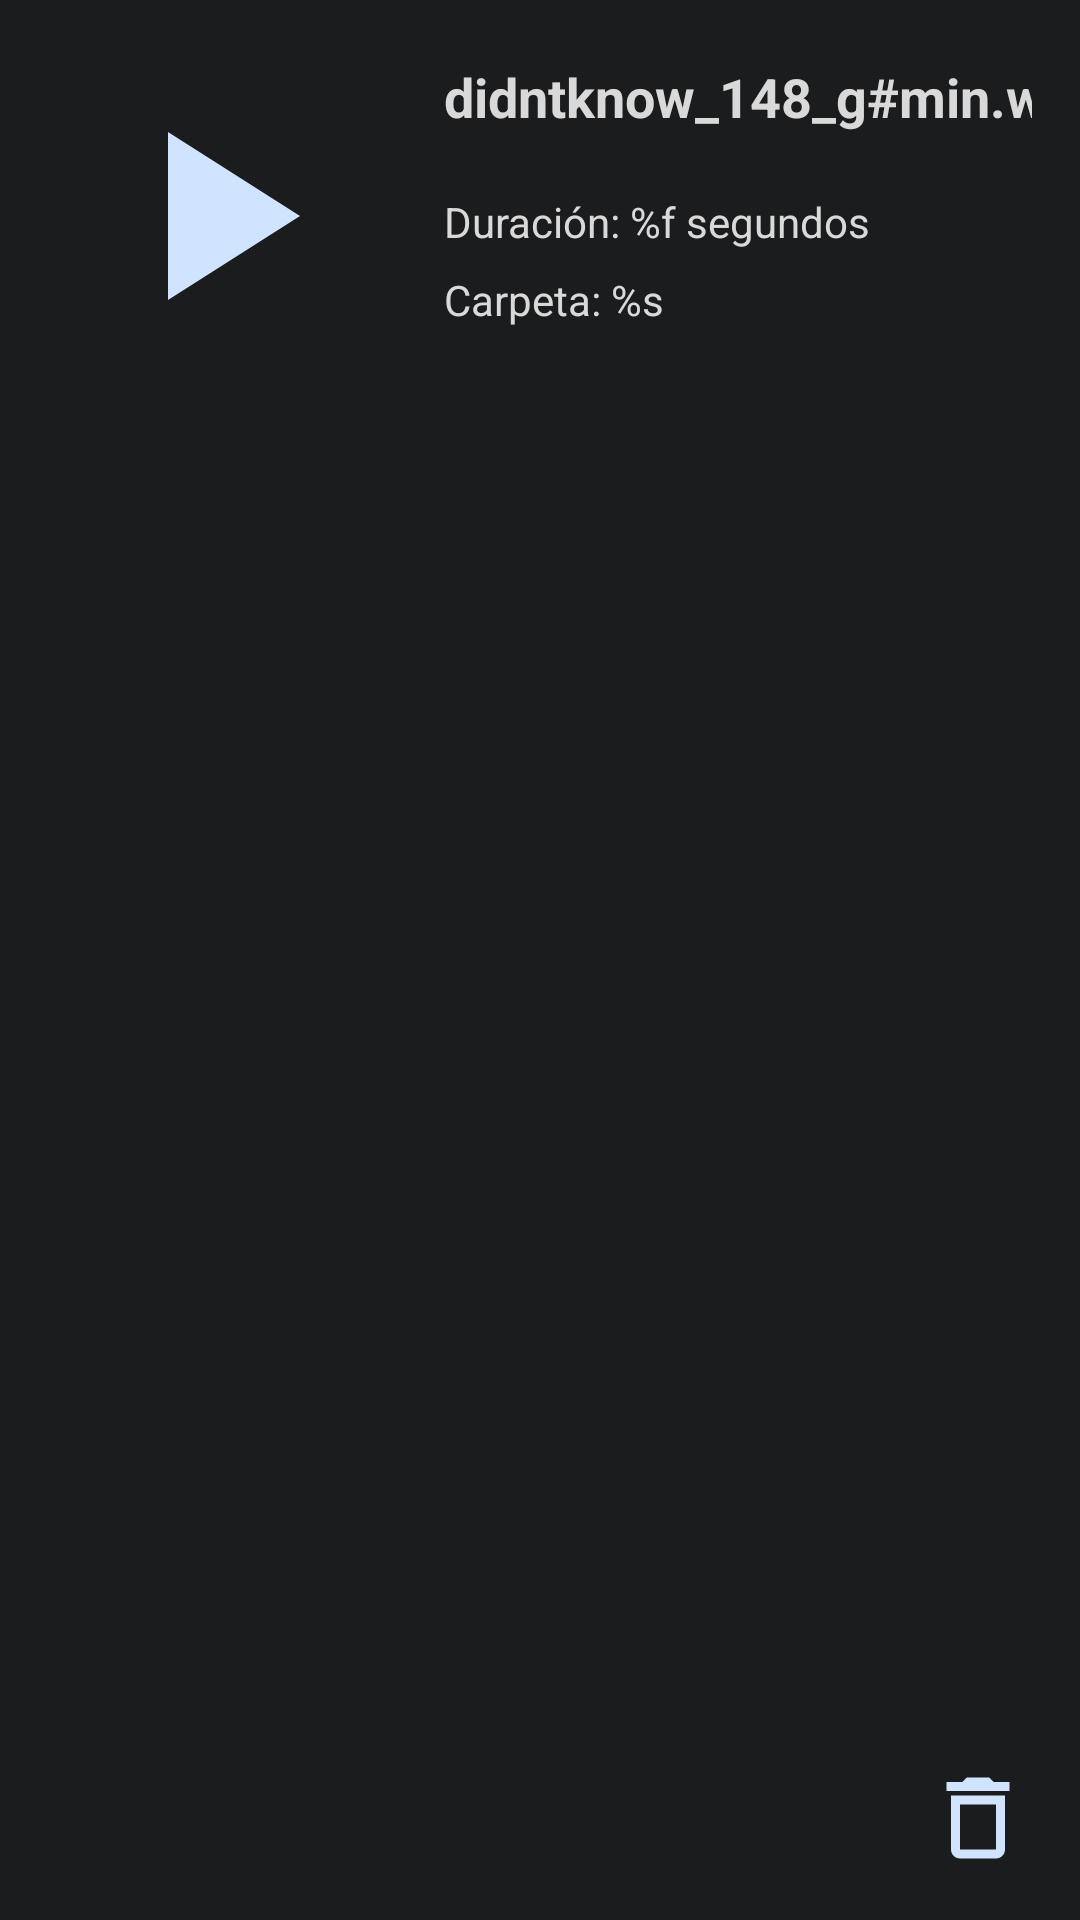

Icons on this 1080 × 1920 Android screen, each with its box as (x1, y1, x2, y2):
delete: (946, 1777, 1010, 1859)
Reproducir/Pausar: (168, 132, 300, 300)
